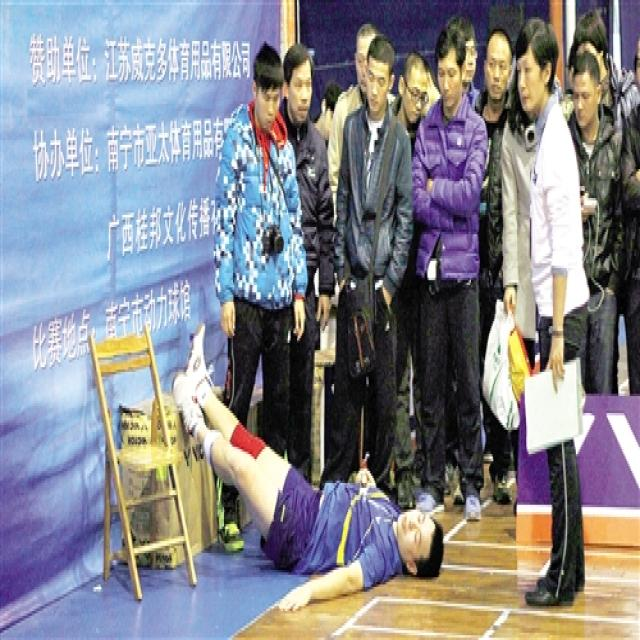10-: (227, 17, 638, 599)
down: (168, 312, 444, 614)
